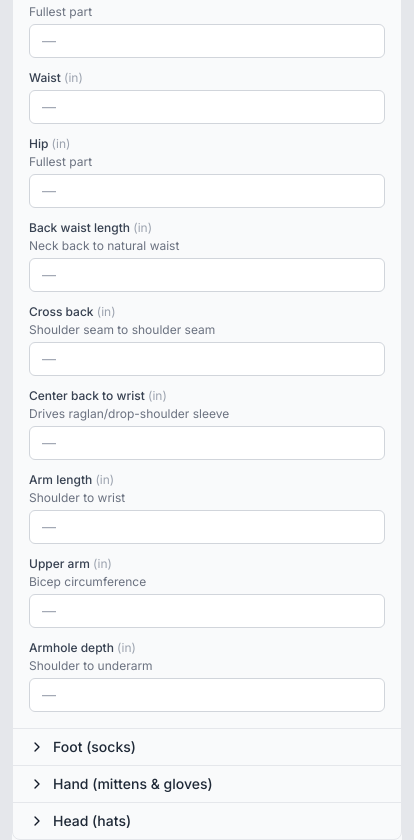
Test: MeasurementsFields › expands a collapsed section when clicked
(page scrolled)
Click the button "Foot (socks)": (94, 746) [13,729,401,765]
(page scrolled)
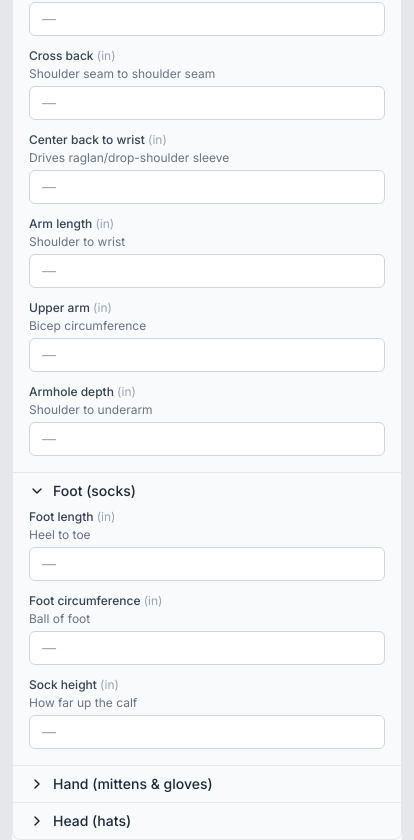
expect the text "Foot length" is shown: met, box [29,509,94,524]
expect the text "Sock height" is shown: met, box [29,677,97,692]
